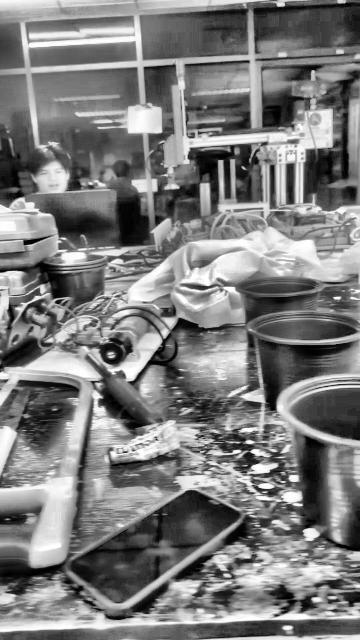pot: (277, 375, 359, 551), (248, 310, 359, 409), (238, 276, 321, 347), (39, 259, 113, 301)
